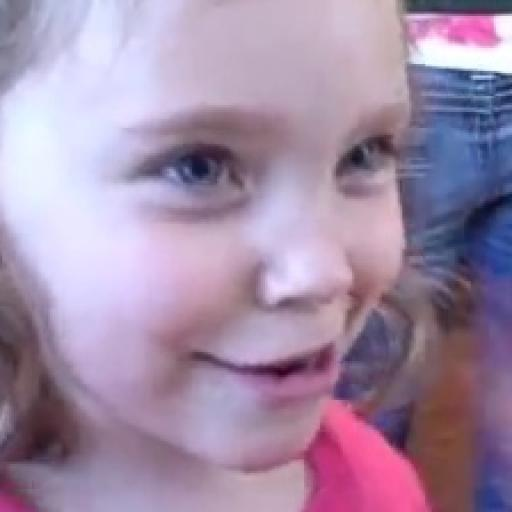Autism: (0, 5, 507, 483)
